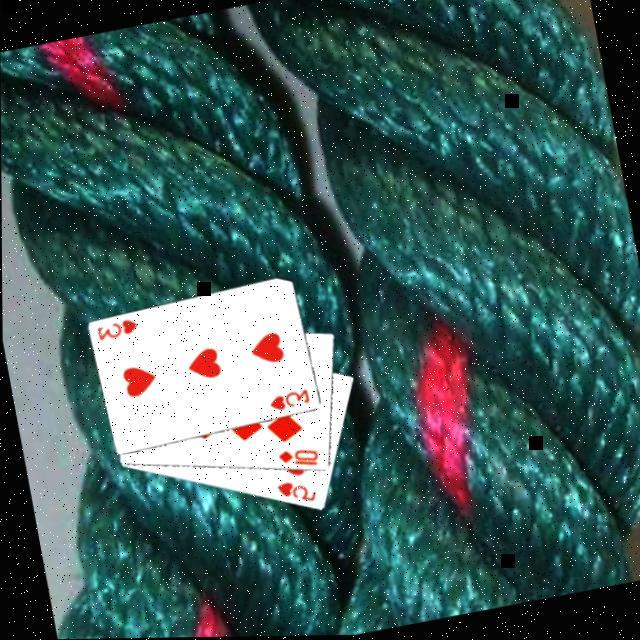10D: (272, 442, 320, 475)
3H: (90, 314, 139, 345), (263, 385, 310, 415)
5H: (269, 473, 318, 511)
